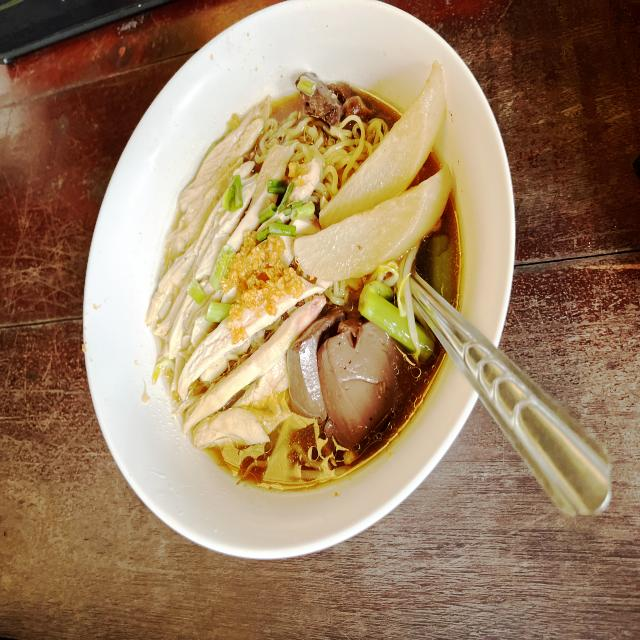boiled_chicken_blood_jelly: (291, 309, 392, 424)
chicken_shredded: (151, 105, 294, 467)
daikon_radish: (319, 67, 445, 227), (296, 172, 457, 284)
noodle: (139, 50, 482, 513)
